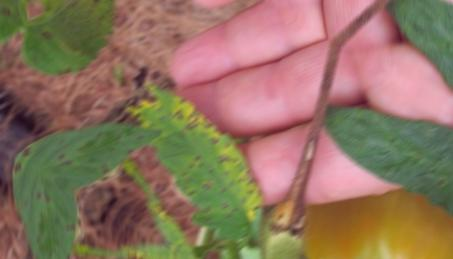Tomato Septoria leaf spot: (92, 71, 301, 255), (20, 75, 170, 218), (310, 69, 453, 217), (7, 0, 151, 97)
